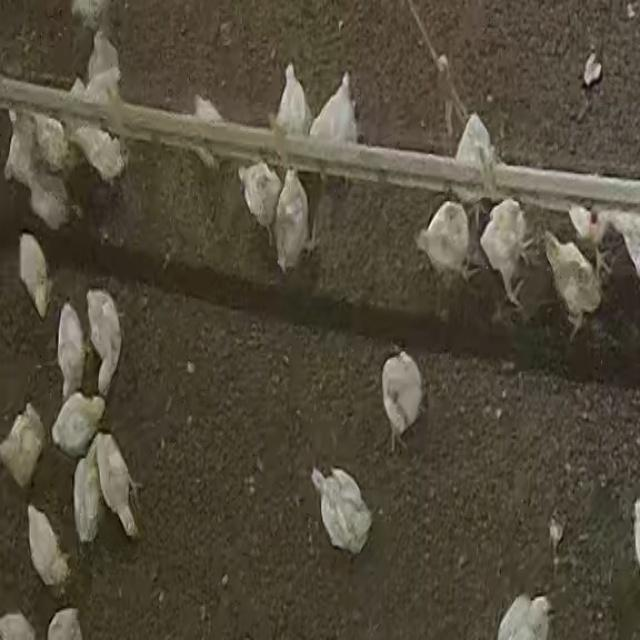chicken: (541, 230, 604, 340), (479, 199, 533, 310), (309, 466, 372, 556), (413, 201, 474, 291), (94, 430, 142, 539), (69, 82, 121, 181), (453, 114, 498, 215), (380, 351, 424, 453), (273, 161, 313, 273), (85, 290, 124, 401), (236, 158, 284, 248), (308, 72, 359, 151), (27, 504, 73, 590), (1, 403, 46, 489), (51, 392, 106, 461), (73, 438, 105, 544), (25, 164, 72, 234), (189, 94, 231, 172), (56, 304, 87, 404), (18, 232, 53, 320), (275, 63, 313, 141), (32, 108, 74, 177), (495, 593, 552, 640), (4, 110, 37, 191), (85, 27, 124, 94)
